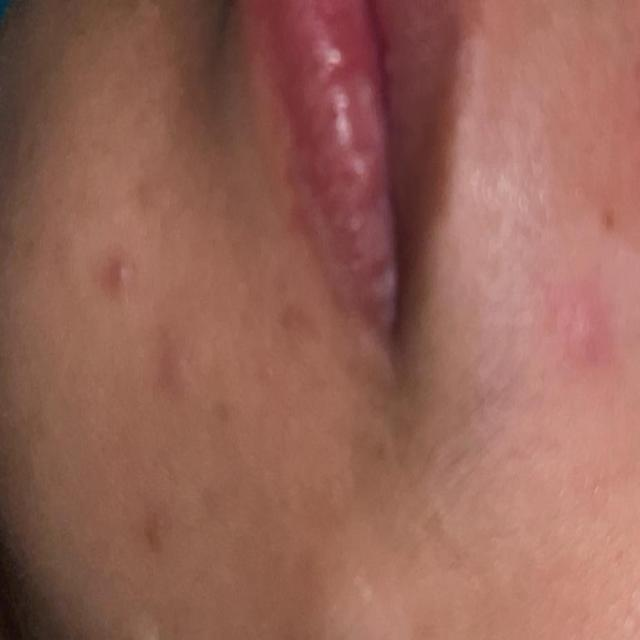papule: (548, 256, 631, 384), (139, 320, 214, 433)
pustule: (104, 245, 147, 285)
